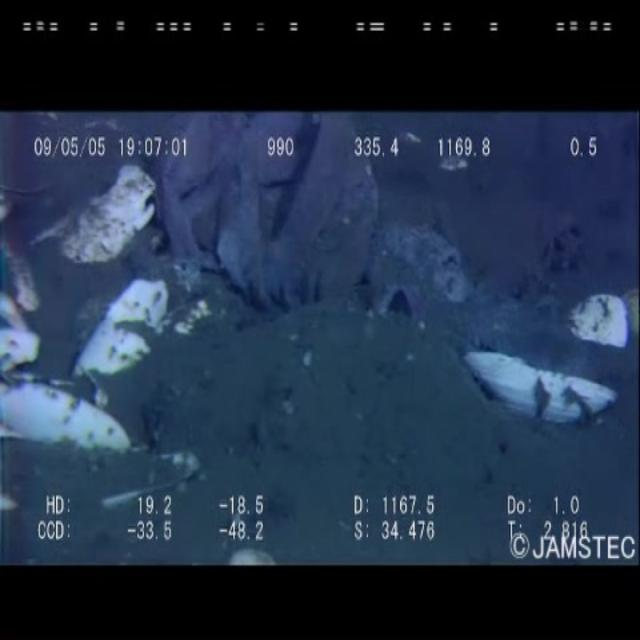Accessories: (144, 112, 434, 342)
